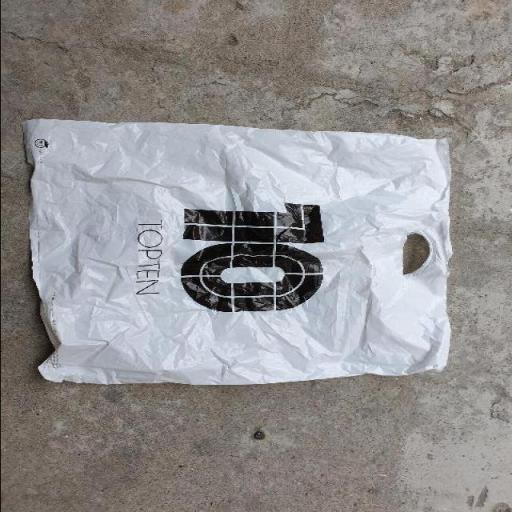plastic-bag: (20, 116, 455, 389)
